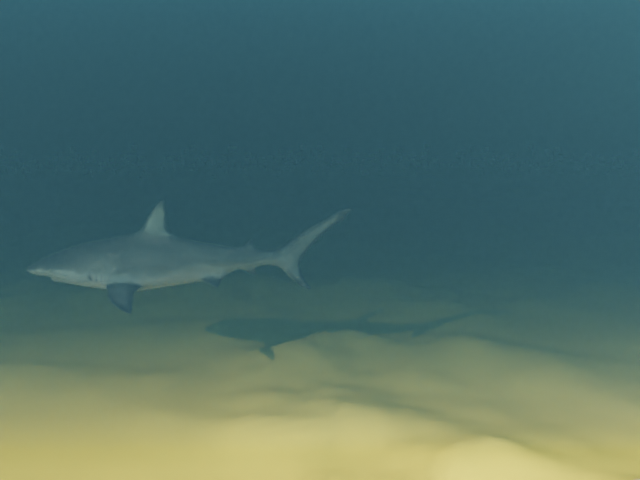Carribean Shark.001: (26, 200, 351, 314)
